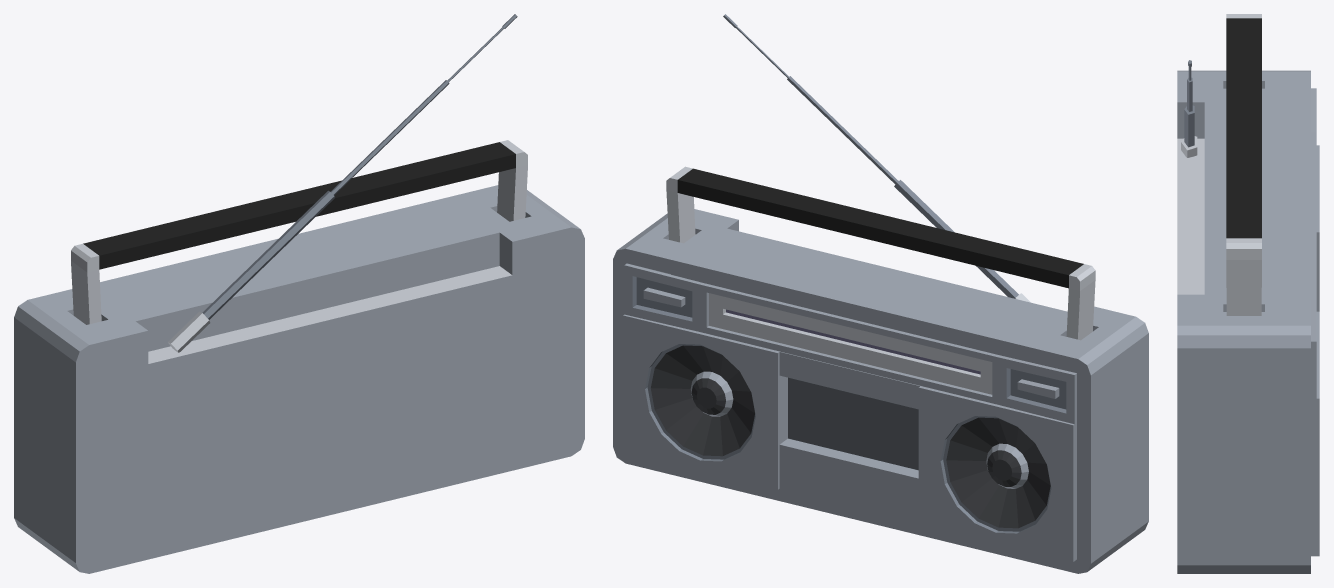
File: Radio.fbx
3 views of the same model, side by side, from view 1: azimuth 30°, elevation 25°; view 2: azimuth 150°, elevation 25°; view 3: azimuth 270°, elevation 25° (orthographic). The views are drawn at different scales.
Parts seen in each view (by area): view 1: Casette_player, Handle, Antenna; view 2: Casette_player, Handle, Antenna; view 3: Casette_player, Handle, Antenna.
Boxes of the visible parts, box(x1,y1,x2,y2) form: Casette_player: box(14, 185, 584, 573); Handle: box(71, 140, 527, 324); Antenna: box(168, 14, 517, 352); Casette_player: box(613, 209, 1148, 573); Handle: box(666, 166, 1095, 340); Antenna: box(723, 14, 1030, 302); Casette_player: box(1177, 70, 1319, 573); Handle: box(1226, 14, 1261, 315); Antenna: box(1181, 60, 1197, 157).
Bounding box in the file's own units: 1.69 × 0.3774 × 1.42.
